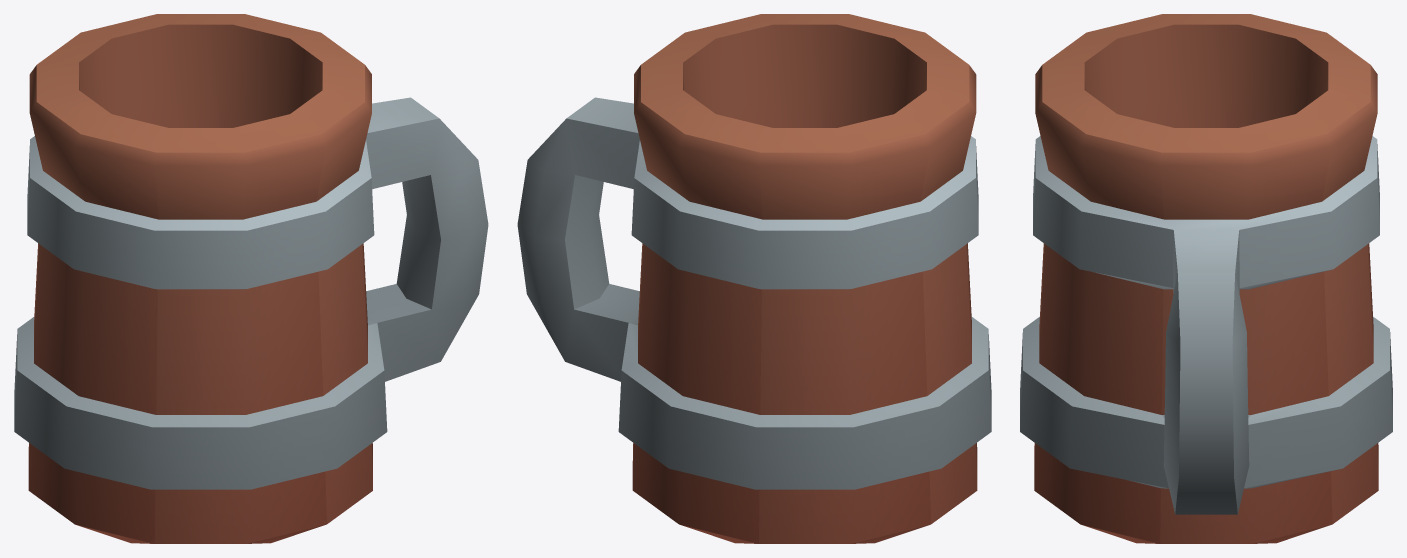
Rendered from mug_empty.glb.
3 views of the same model, side by side, from view 1: azimuth 30°, elevation 25°; view 2: azimuth 150°, elevation 25°; view 3: azimuth 270°, elevation 25° (orthographic).
Bounding box in the file's own units: 0.5342 × 0.4868 × 0.396.
Materials: 1 (1 with a texture image).
